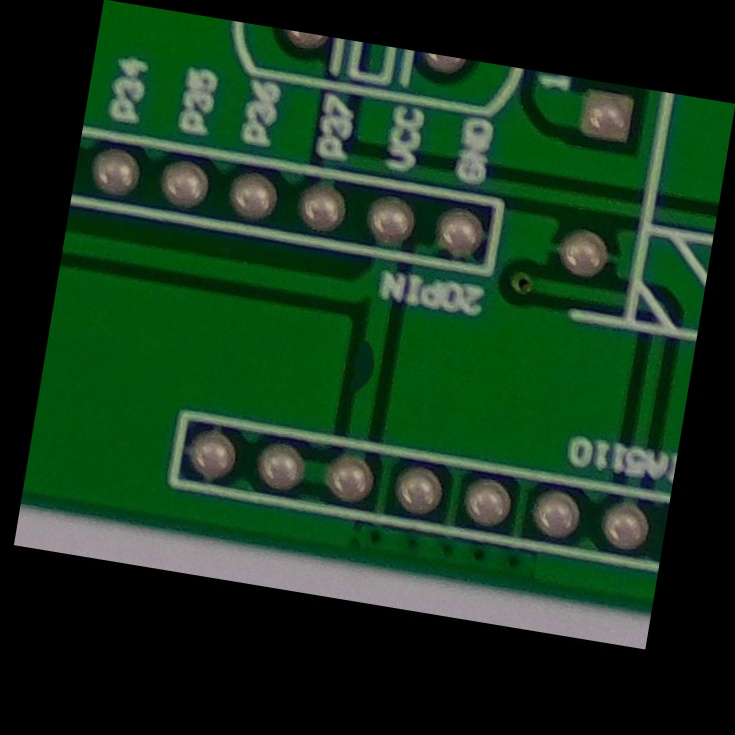mouse_bite: (341, 324, 395, 411)
